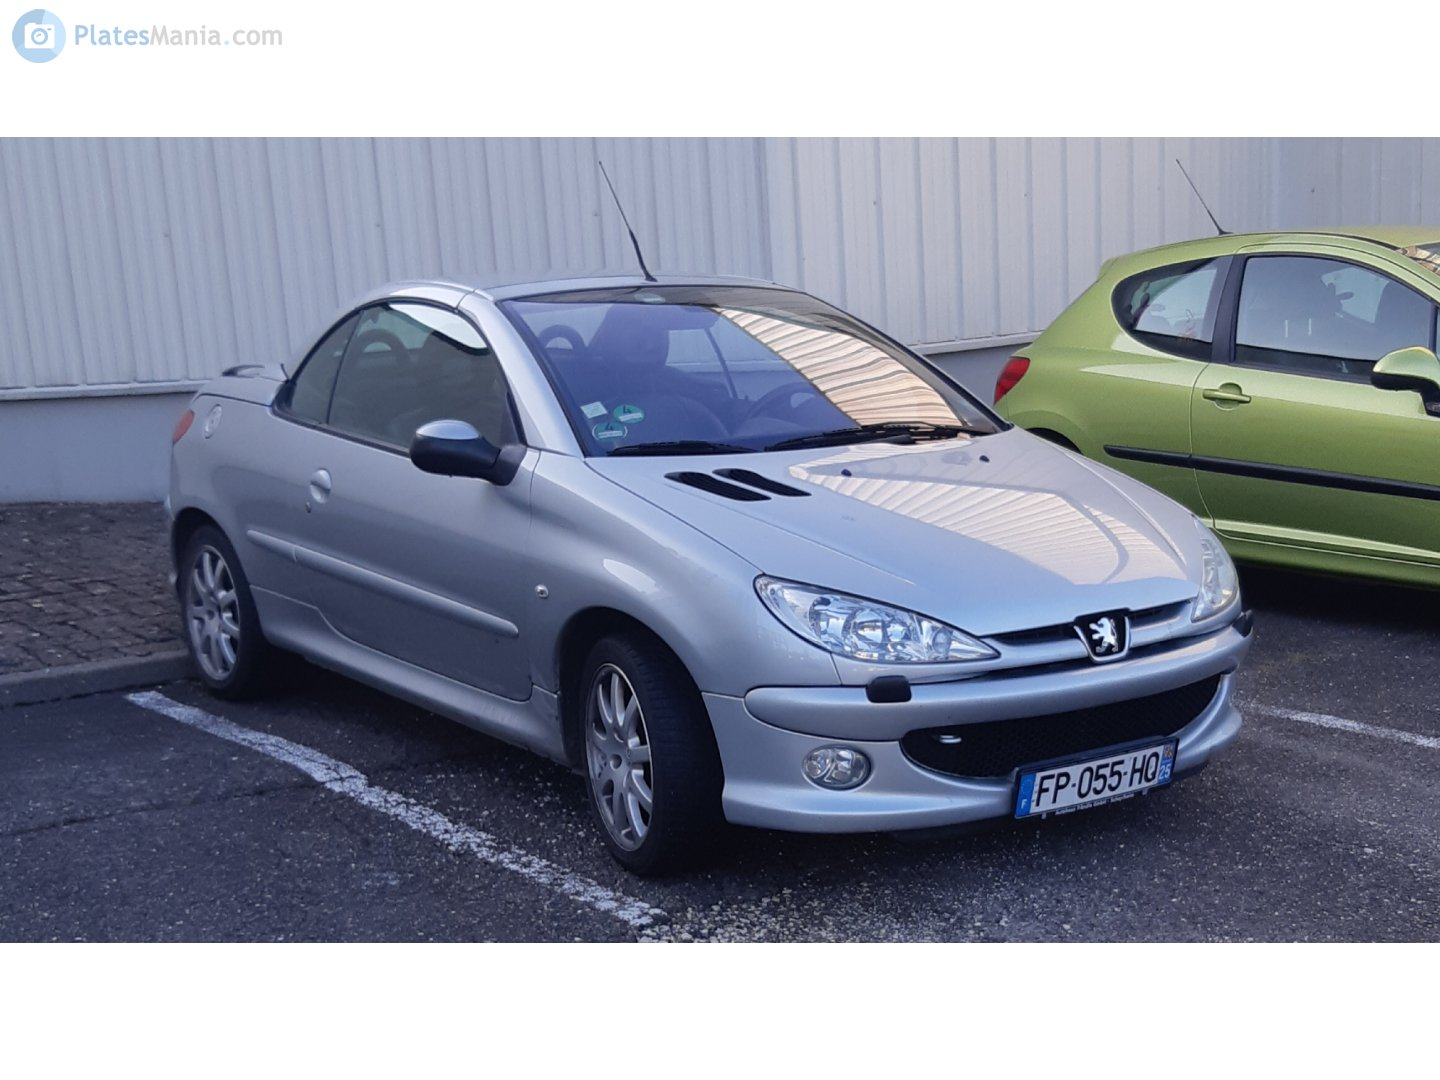licence plate: (1008, 732, 1186, 822)
